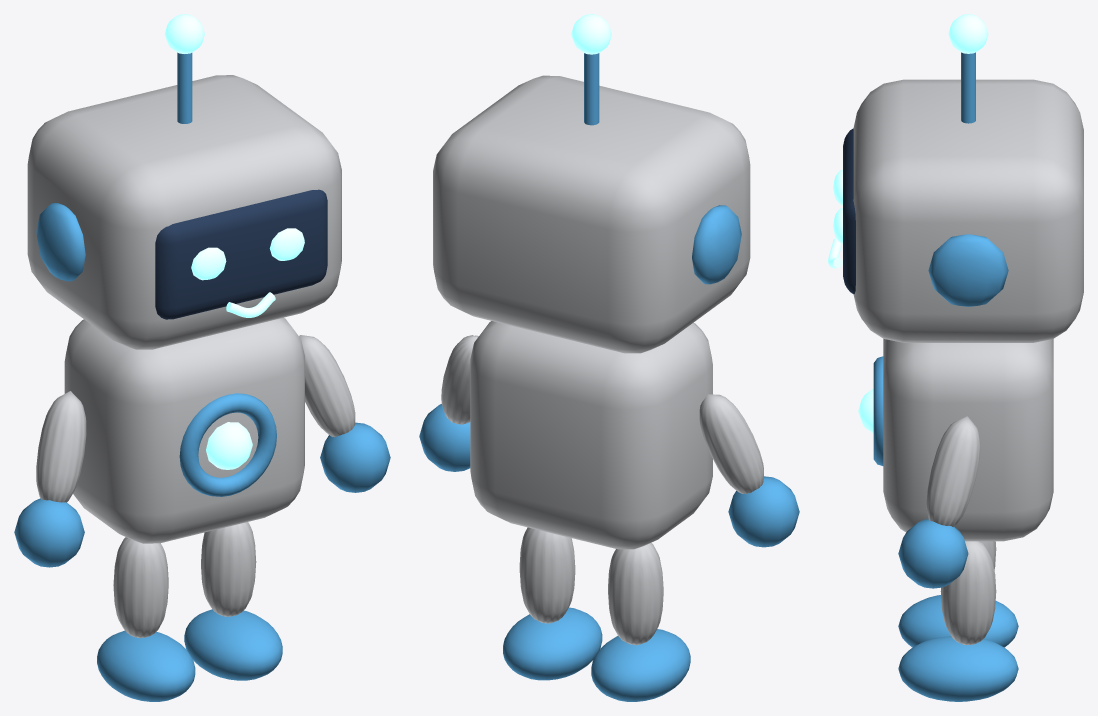
The model's file is robot.glb.
The picture shows the model from 3 angles, left to right: view 1: azimuth 30°, elevation 25°; view 2: azimuth 150°, elevation 25°; view 3: azimuth 270°, elevation 25°; orthographic projection.
Parts seen in each view (by area): view 1: skull, torso, visor, foot1, foot-1, chestring, leg-1, leg1, armmesh-1, hand-1, hand1, armmesh1 (+6 smaller); view 2: skull, torso, foot-1, foot1, leg-1, leg1, armmesh-1, hand-1, earcap-1, hand1, armmesh1, antennatip (+1 smaller); view 3: skull, torso, foot1, earcap1, armmesh1, leg1, hand1, foot-1, visor, antennatip, chestring, antenna (+1 smaller).
Part boxes in pixels (bbox=[...]): skull: bbox=[27, 75, 341, 349]; torso: bbox=[64, 317, 304, 543]; visor: bbox=[155, 189, 327, 319]; foot1: bbox=[184, 609, 282, 680]; foot-1: bbox=[97, 630, 195, 701]; chestring: bbox=[179, 393, 276, 496]; leg-1: bbox=[113, 537, 168, 638]; leg1: bbox=[201, 522, 256, 616]; armmesh-1: bbox=[36, 391, 86, 502]; hand-1: bbox=[14, 498, 84, 567]; hand1: bbox=[320, 422, 390, 492]; armmesh1: bbox=[299, 335, 355, 437]; skull: bbox=[433, 75, 750, 353]; torso: bbox=[470, 321, 712, 549]; foot-1: bbox=[591, 629, 690, 701]; foot1: bbox=[503, 607, 602, 680]; leg-1: bbox=[608, 542, 663, 645]; leg1: bbox=[519, 527, 575, 623]; armmesh-1: bbox=[699, 394, 763, 493]; hand-1: bbox=[728, 476, 799, 547]; earcap-1: bbox=[692, 205, 741, 284]; hand1: bbox=[419, 403, 470, 471]; armmesh1: bbox=[441, 335, 478, 424]; antennatip: bbox=[571, 14, 611, 54]; skull: bbox=[853, 79, 1083, 342]; torso: bbox=[883, 339, 1053, 541]; foot1: bbox=[898, 636, 1018, 701]; earcap1: bbox=[928, 234, 1008, 306]; armmesh1: bbox=[926, 416, 980, 526]; leg1: bbox=[940, 541, 996, 645]; hand1: bbox=[898, 519, 968, 588]; foot-1: bbox=[898, 595, 1018, 647]; visor: bbox=[843, 128, 855, 294]; antennatip: bbox=[948, 14, 988, 53]; chestring: bbox=[873, 356, 883, 465]; antenna: bbox=[961, 52, 975, 123].
Bounding box in the file's own units: 0.84 × 1.45 × 0.51.
